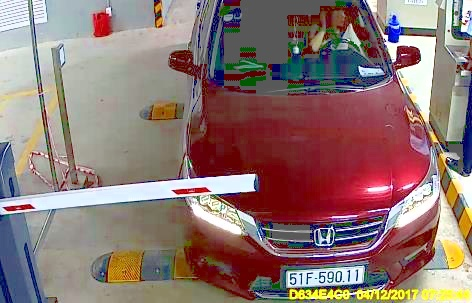plate: (285, 263, 363, 283)
